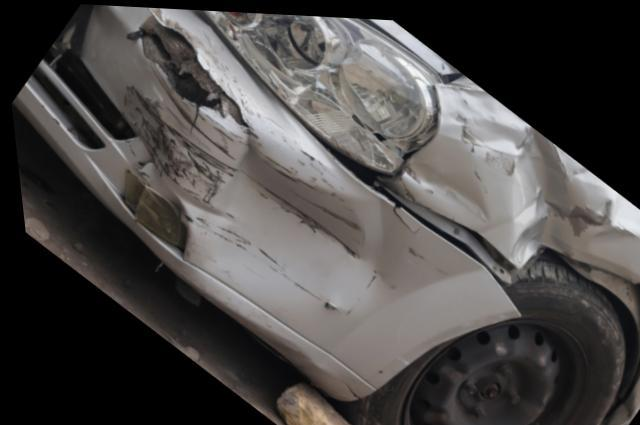crack: (137, 8, 250, 134), (388, 198, 418, 229)
dent: (395, 80, 640, 287), (198, 142, 418, 306)
dislocated part: (15, 6, 518, 407)
lamp broken: (203, 8, 436, 171)
scratch: (112, 81, 259, 204)
